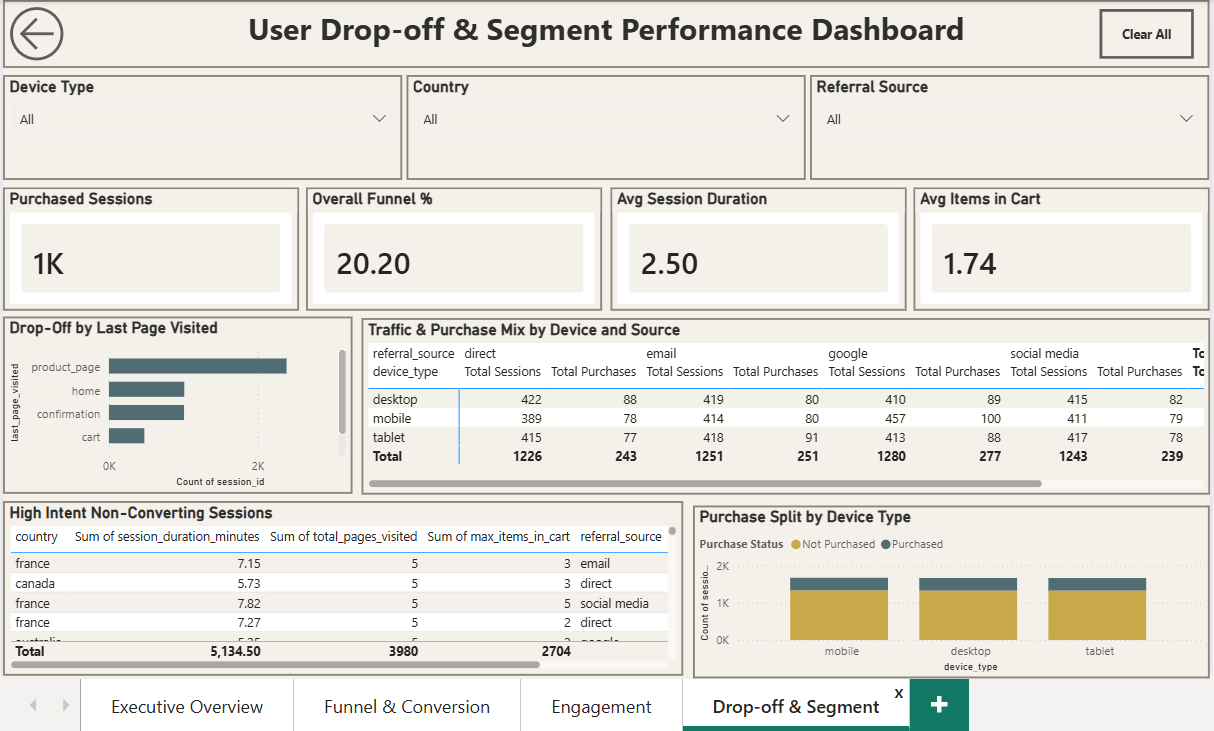

What the dashboard file says about the page in this screenshot:
{"tool":"powerbi","page":{"name":"Drop-off & Segment","canvas":[1280,720],"ordinal":3},"visuals":[{"type":"textbox","box":[0,0,1279.4,71.8],"z":0},{"type":"slicer","title":"Device Type","fields":{"Values":["session_master.device_type"]},"box":[0,79.4,423.3,111.5],"z":1000},{"type":"slicer","title":"Referral Source","fields":{"Values":["session_master.referral_source"]},"box":[856.1,79.4,423.3,111.5],"z":2000},{"type":"slicer","title":"Country","fields":{"Values":["session_master.country"]},"box":[427.1,79.4,423.3,111.5],"z":3000},{"type":"cardVisual","title":"Purchased Sessions","fields":{"Data":["session_master.Purchased Sessions"]},"box":[0,198.4,313.7,130.4],"z":4000},{"type":"cardVisual","title":"Avg Items in Cart","fields":{"Data":["session_master.Avg Items in Cart"]},"box":[965.7,198.4,313.7,130.4],"z":5000},{"type":"cardVisual","title":"Avg Session Duration","fields":{"Data":["session_master.Avg Session Duration"]},"box":[644.4,198.4,313.7,130.4],"z":6000},{"type":"cardVisual","title":"Overall Funnel %","fields":{"Data":["session_master.Overall Funnel %"]},"box":[321.3,198.4,313.7,130.4],"z":7000},{"type":"clusteredBarChart","title":"Drop-Off by Last Page Visited","fields":{"Category":["session_master.last_page_visited"],"Y":["CountNonNull(session_master.session_id)"]},"box":[0,335.6,370.6,187.7],"z":8000},{"type":"tableEx","title":"High Intent Non-Converting Sessions","fields":{"Values":["session_master.country","Sum(session_master.session_duration_minutes)","Sum(session_master.total_pages_visited)","Sum(session_master.max_items_in_cart)","session_master.referral_source","session_master.session_id","session_master.device_type"]},"box":[0,531.8,721,185.2],"z":9000},{"type":"pivotTable","title":"Traffic & Purchase Mix by Device and Source","fields":{"Rows":["session_master.device_type"],"Columns":["session_master.referral_source"],"Values":["session_master.Total Sessions","session_master.Total Purchases"]},"box":[380.4,336.6,900.3,187.2],"z":10000},{"type":"columnChart","title":"Purchase Split by Device Type","fields":{"Category":["session_master.device_type"],"Y":["CountNonNull(session_master.session_id)"],"Series":["session_master.Purchase Status"]},"box":[731,535.8,547.7,183.2],"z":11000},{"type":"actionButton","box":[0,0,76.3,71.6],"z":12000},{"type":"actionButton","box":[1162.2,9.4,100.2,52.9],"z":13000}]}

Visuals, with their boxes on the page's 1280x720 design canvas (x1, y1, x2, y2). These are canvas units, not pixel positions in the 1214x731 screenshot, which may show the page scaled, cropped or inside an application window:
textbox: Rect(0, 0, 1279, 72)
"Device Type" slicer: Rect(0, 79, 423, 191)
"Referral Source" slicer: Rect(856, 79, 1279, 191)
"Country" slicer: Rect(427, 79, 850, 191)
"Purchased Sessions" cardVisual: Rect(0, 198, 314, 329)
"Avg Items in Cart" cardVisual: Rect(966, 198, 1279, 329)
"Avg Session Duration" cardVisual: Rect(644, 198, 958, 329)
"Overall Funnel %" cardVisual: Rect(321, 198, 635, 329)
"Drop-Off by Last Page Visited" clusteredBarChart: Rect(0, 336, 371, 523)
"High Intent Non-Converting Sessions" tableEx: Rect(0, 532, 721, 717)
"Traffic & Purchase Mix by Device and Source" pivotTable: Rect(380, 337, 1281, 524)
"Purchase Split by Device Type" columnChart: Rect(731, 536, 1279, 719)
actionButton: Rect(0, 0, 76, 72)
actionButton: Rect(1162, 9, 1262, 62)
